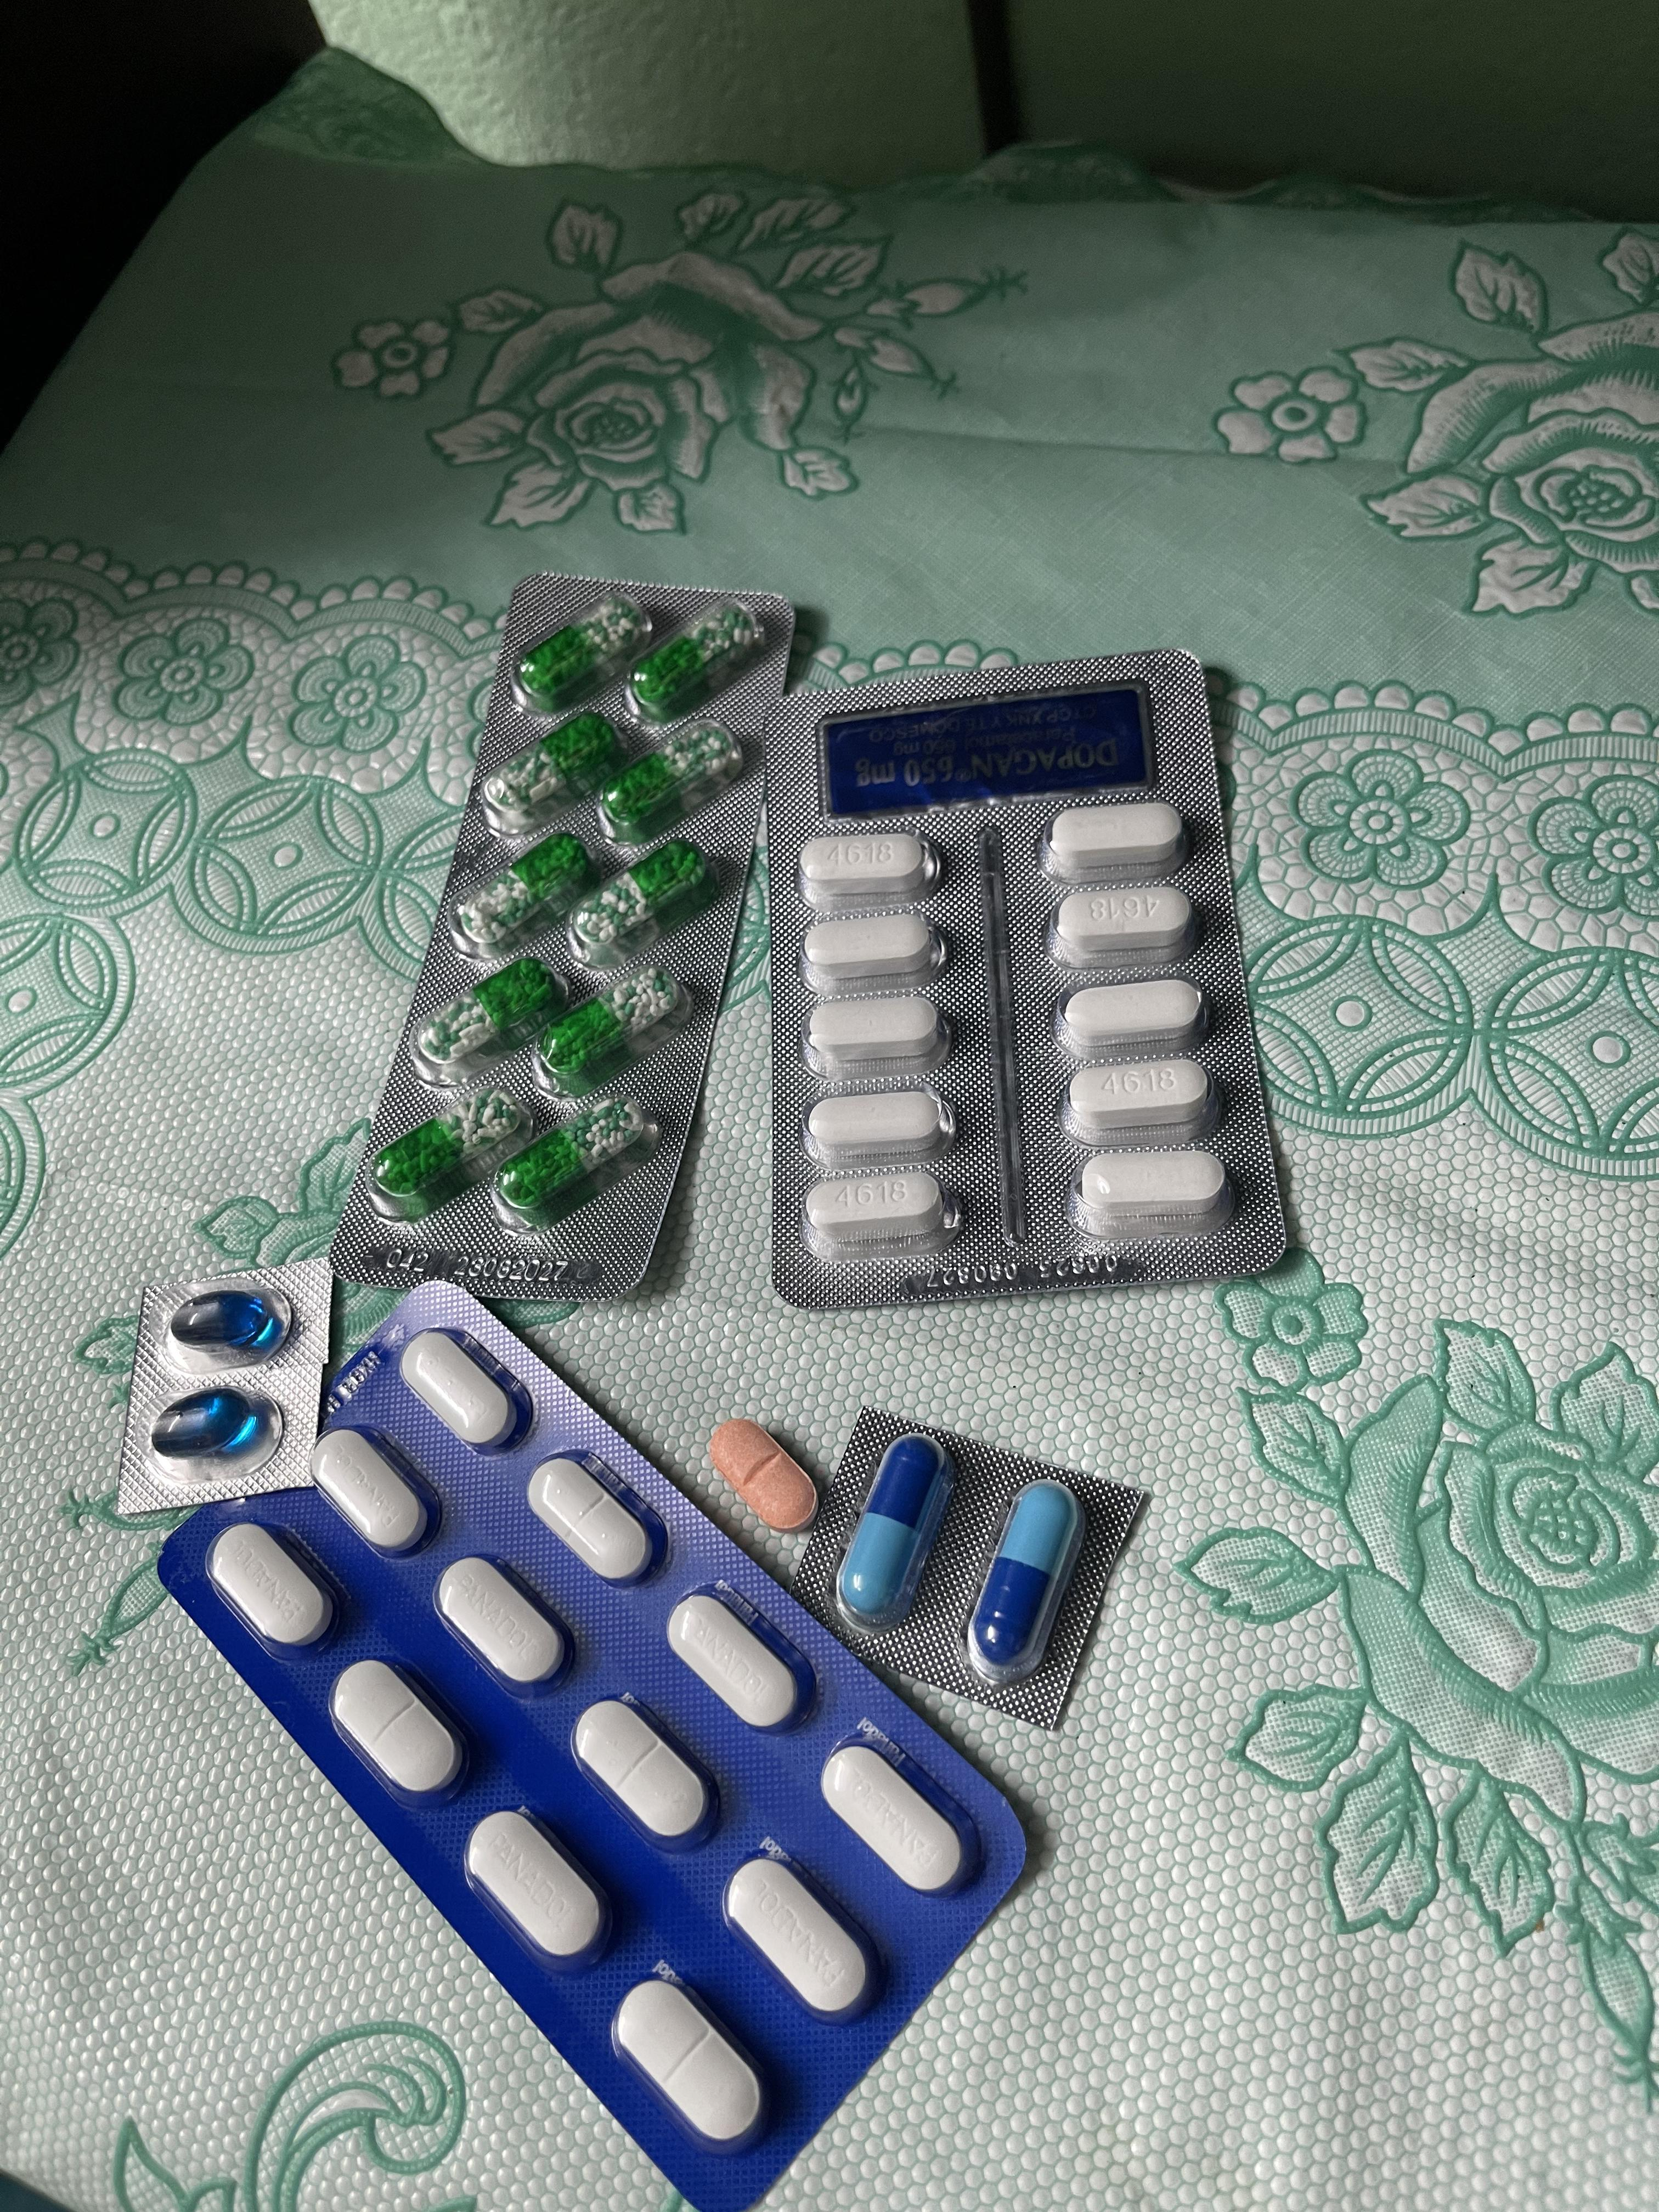Lincomyxin_500mg: (150, 1388, 265, 1458), (169, 1292, 282, 1355)
Loratadine_10mg: (708, 1418, 817, 1533)
Paracetamol_350mg: (612, 1972, 770, 2158), (721, 1848, 885, 2027), (821, 1733, 978, 1902), (464, 1806, 610, 1979), (572, 1696, 720, 1858), (669, 1583, 819, 1740), (331, 1656, 467, 1808), (528, 1453, 667, 1594), (439, 1555, 575, 1700), (207, 1522, 340, 1656), (310, 1426, 439, 1561), (399, 1327, 525, 1451)
Paracetamol_500mg: (805, 1167, 955, 1263), (1073, 1144, 1223, 1238), (1058, 979, 1204, 1068), (1049, 881, 1192, 967), (1068, 1059, 1209, 1144), (805, 993, 948, 1073), (807, 1090, 950, 1170), (1046, 803, 1185, 885), (803, 911, 941, 988), (800, 831, 934, 909)
Paracetamol_650mg: (375, 1083, 542, 1214), (497, 1096, 652, 1226), (535, 963, 695, 1087), (415, 954, 566, 1082), (453, 834, 596, 960), (573, 838, 720, 960), (483, 711, 627, 833), (601, 723, 746, 845), (631, 597, 765, 719), (519, 594, 652, 714)
pill: (964, 1480, 1084, 1689), (833, 1432, 955, 1637)
